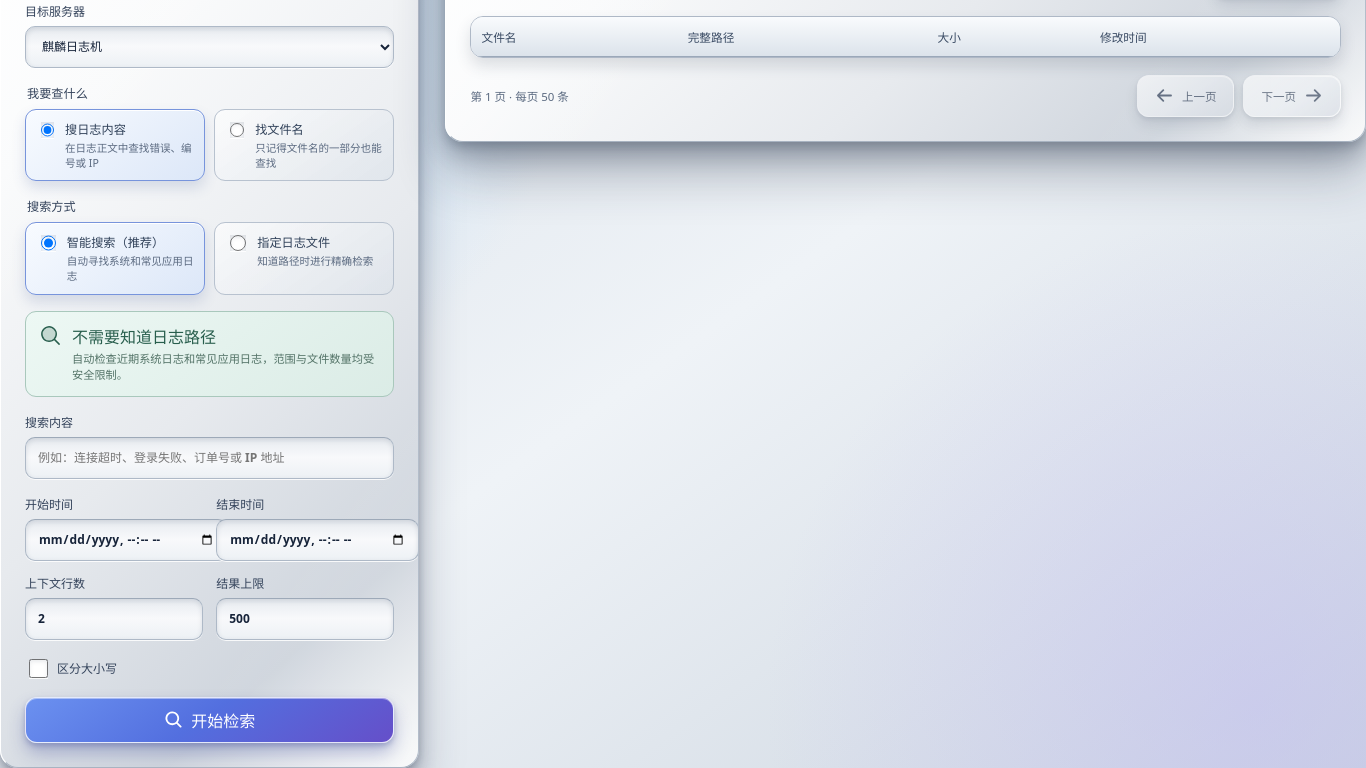
it: LogSearchPage › browses remote directories and selects a log without requiring a known path
This screenshot has width=1366, height=768.
(page scrolled)
Step 1. Click the radio button labelled "指定日志文件" → click(238, 244), box [230,236,246,252]
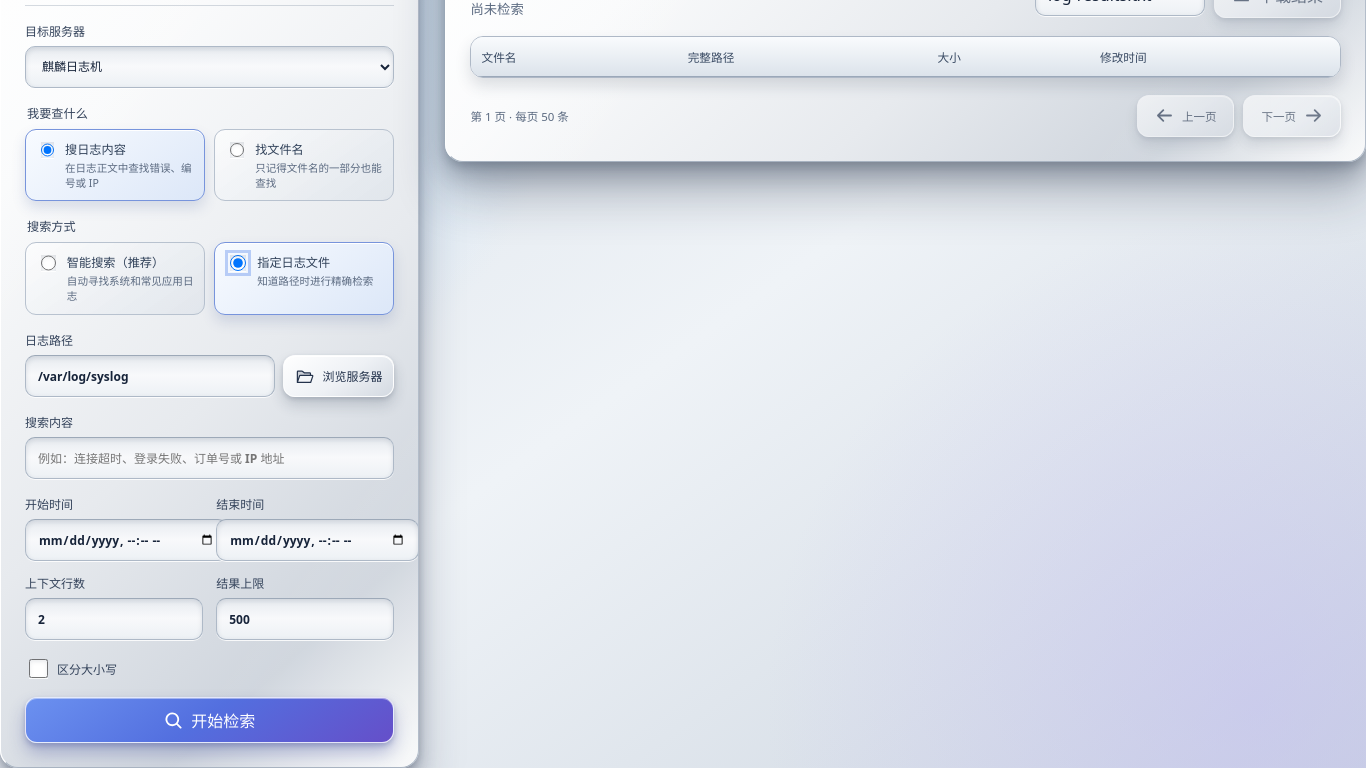
Step 2. Click the button "浏览服务器" → click(339, 376), box [284,355,394,397]
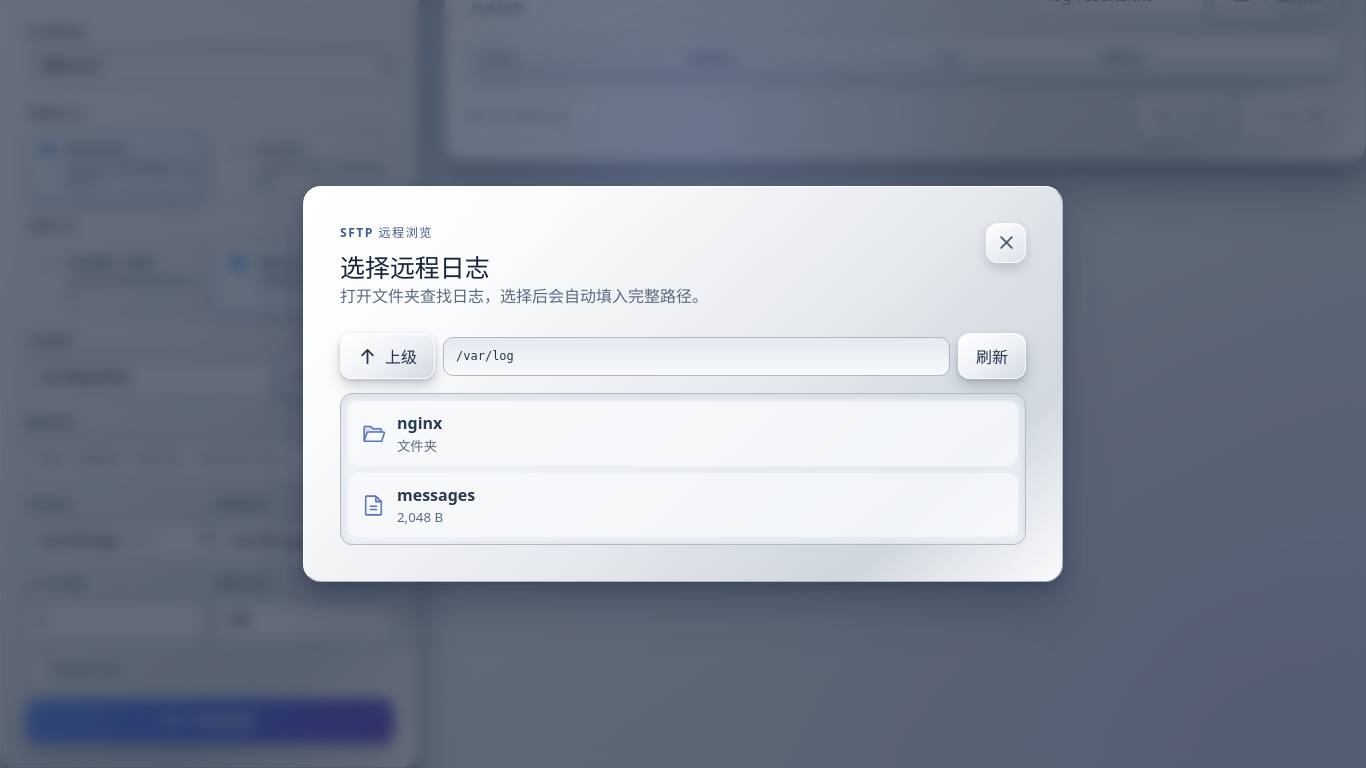
Now the dialog "选择远程日志" is shown, box [303,186,1063,582]
Step 3. Click the button with aria-label "打开目录 nginx" → click(420, 423), box [348,402,1018,466]
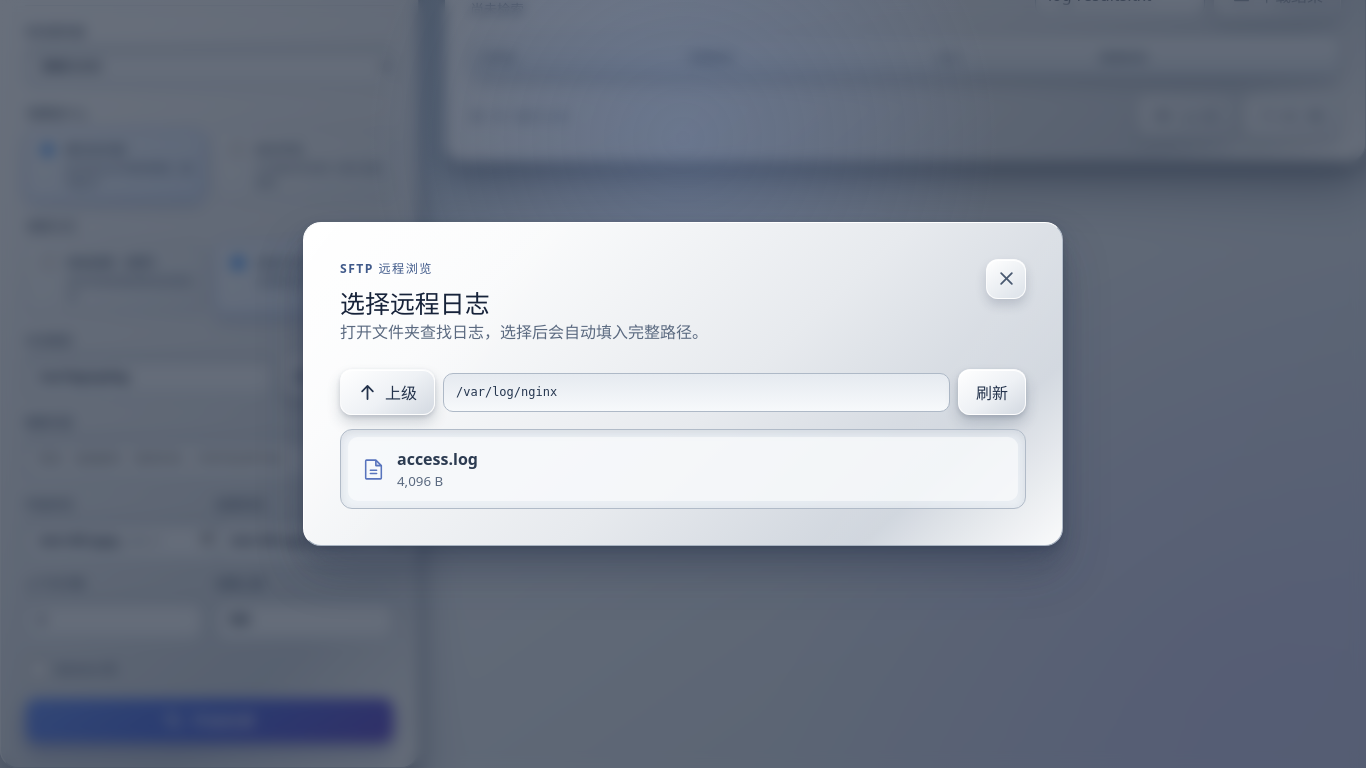
Step 4. Click the button with aria-label "选择日志 access.log" → click(437, 459), box [348,438,1018,502]
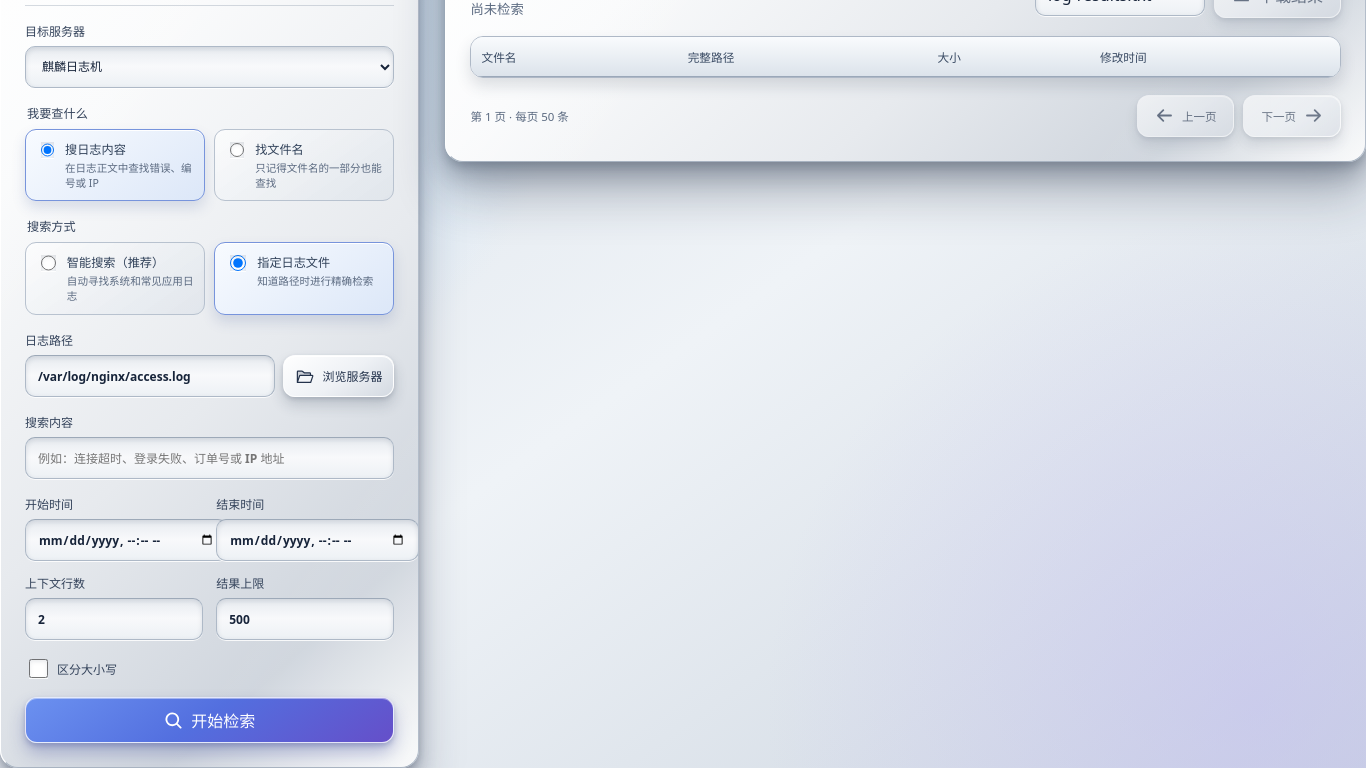
Now the field labelled "日志路径" holds "/var/log/nginx/access.log", box [25,355,276,397]
Now the heading "选择远程日志" is gone
